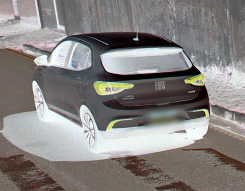car: (31, 33, 213, 150)
